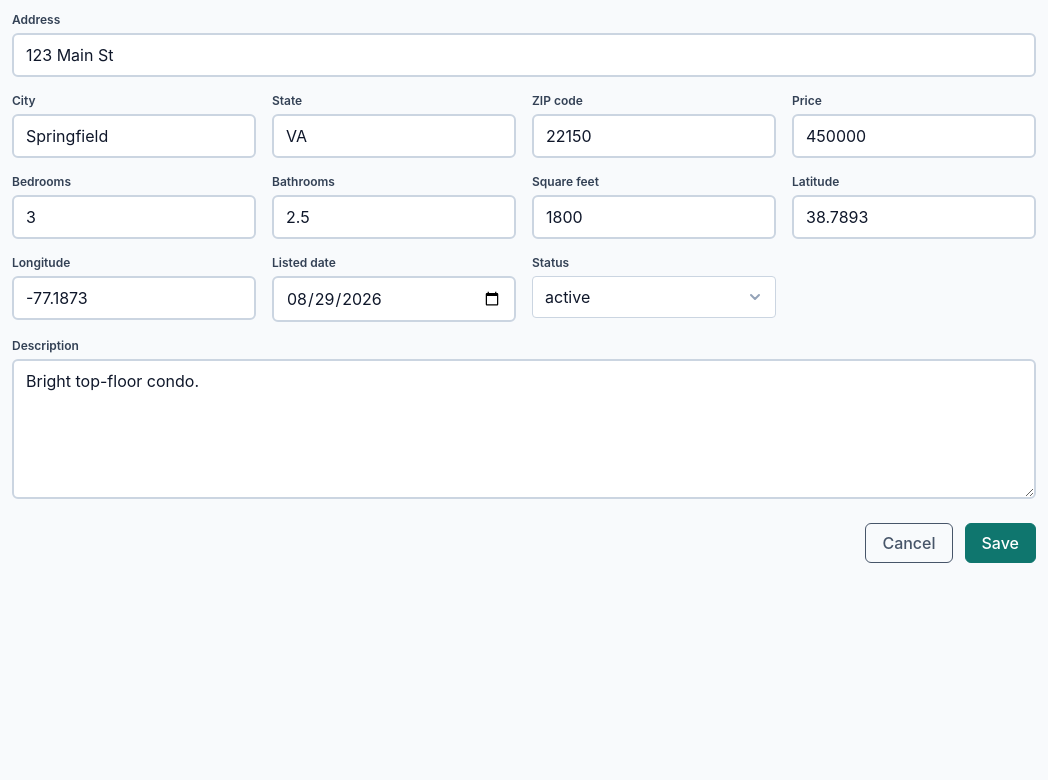
Test: ListingFormComponent › validation › shows a field problem once the user leaves the field
Type "1.25" into the number field labelled "Bathrooms". click: (394, 217)
box: [272,195,516,239]
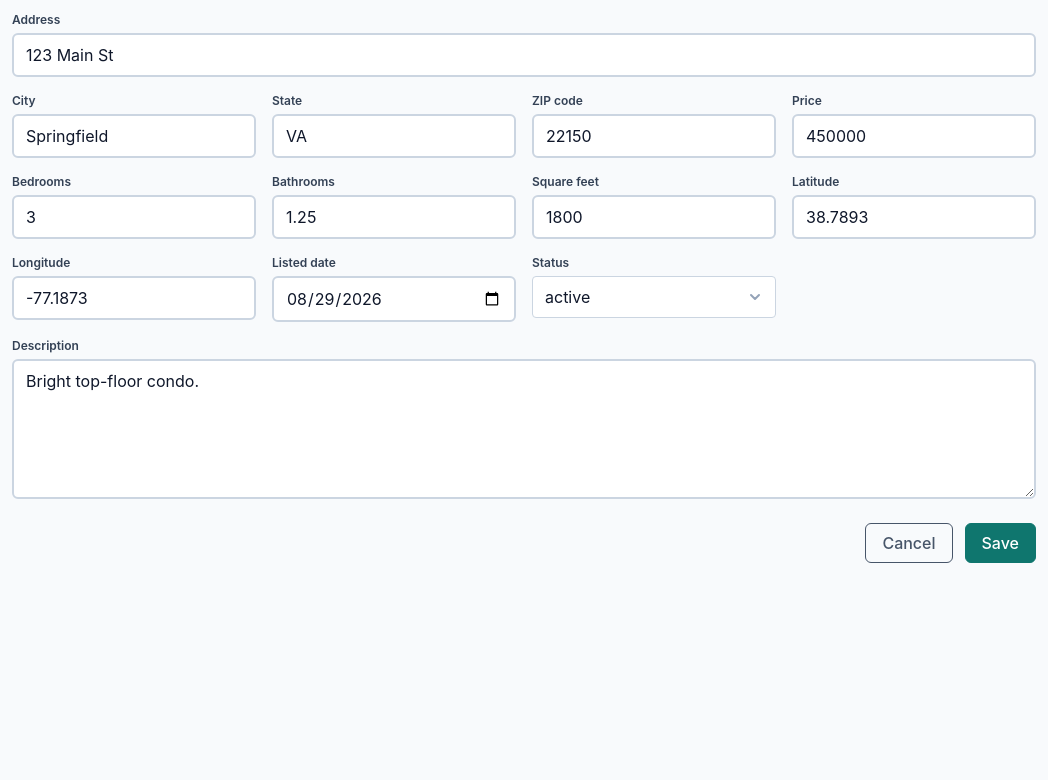
Expected: the text "whole or half number" is not shown
Leave the number field labelled "Bathrooms", box [272,195,516,239]
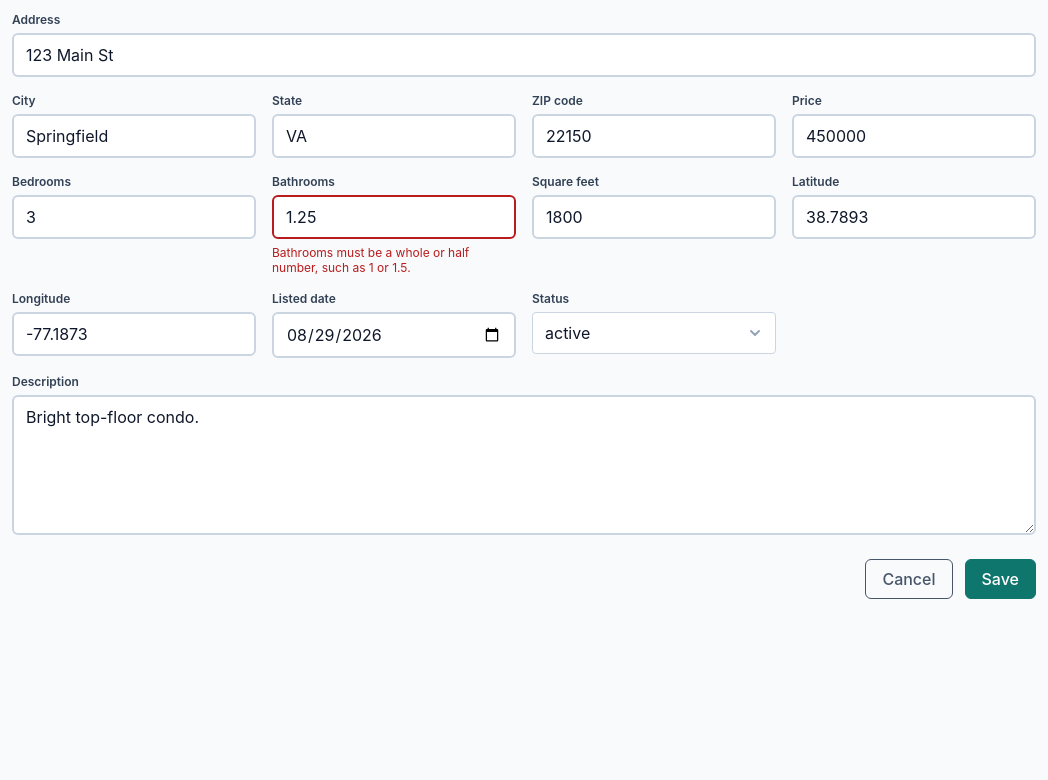
Expected: the text "Bathrooms must be a whole or half number" is shown, [272,245,469,275]
